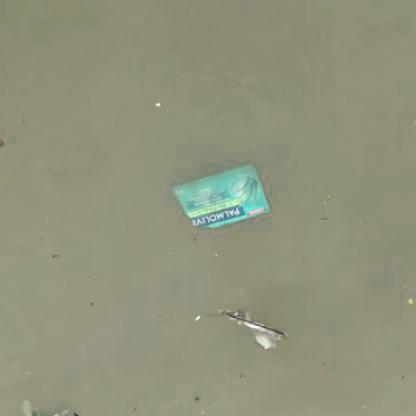Trash: (170, 161, 273, 232)
